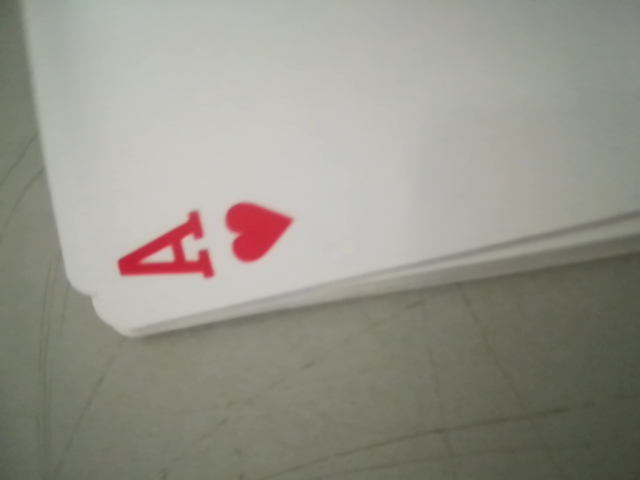hx a: (108, 163, 312, 300)
